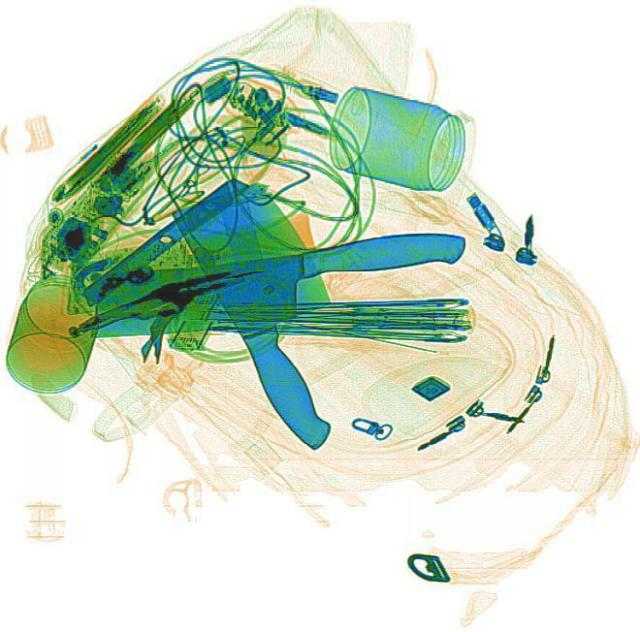Knife: (165, 165, 391, 455), (82, 227, 472, 339)
